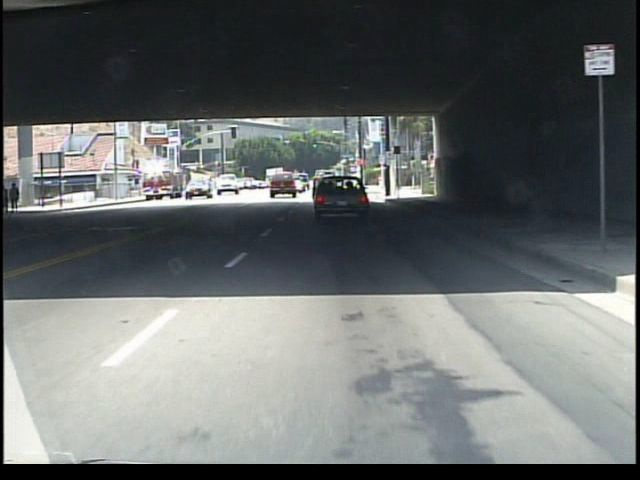person: (11, 184, 24, 214)
